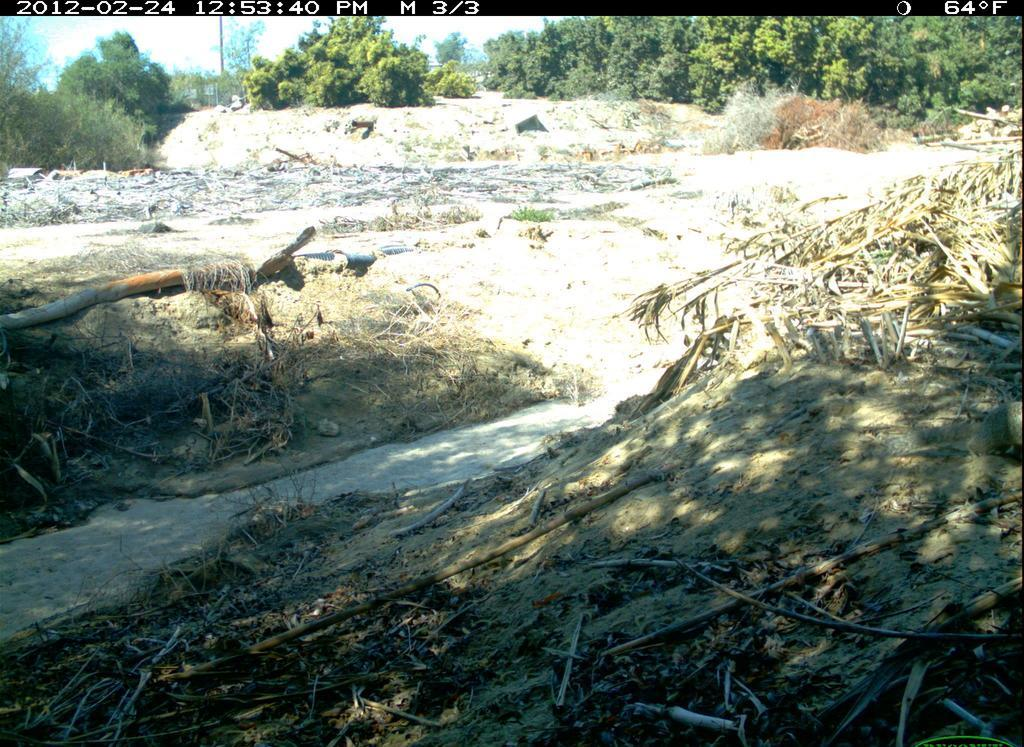squirrel: (859, 396, 1022, 482)
